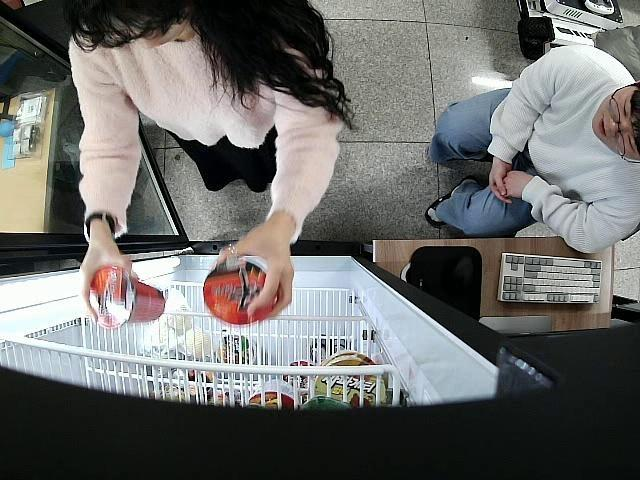02_shinRamen_S: (84, 266, 166, 330), (204, 256, 280, 325)
